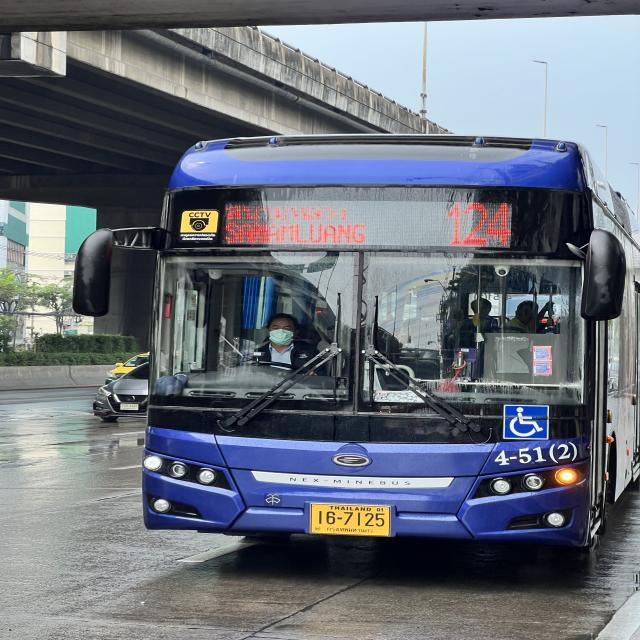Bus Line Number: (438, 194, 520, 258)
Bus Side Number: (489, 438, 582, 469)
Destination Sign: (218, 197, 374, 246)
TSB-Bus: (73, 135, 640, 554)
